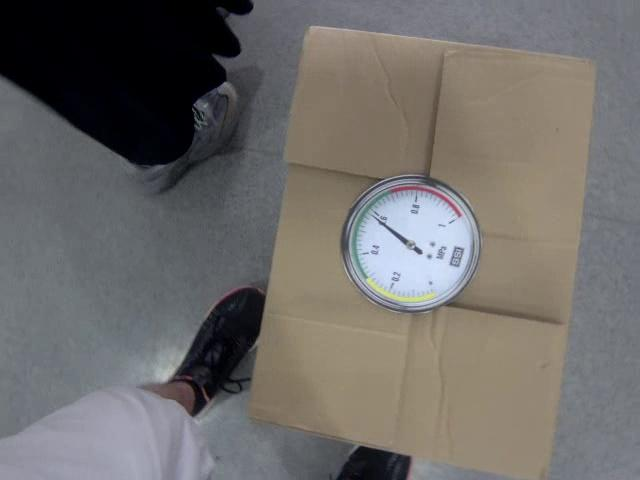Dashboard: (340, 174, 482, 312)
ssi: (449, 246, 465, 270)
